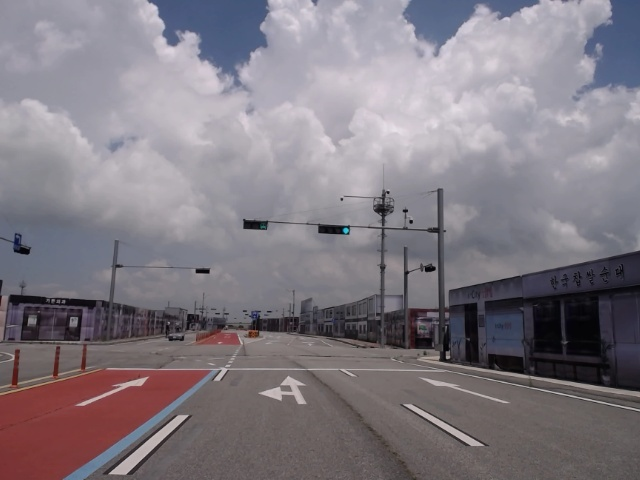straight_green_4: (319, 225, 351, 234)
